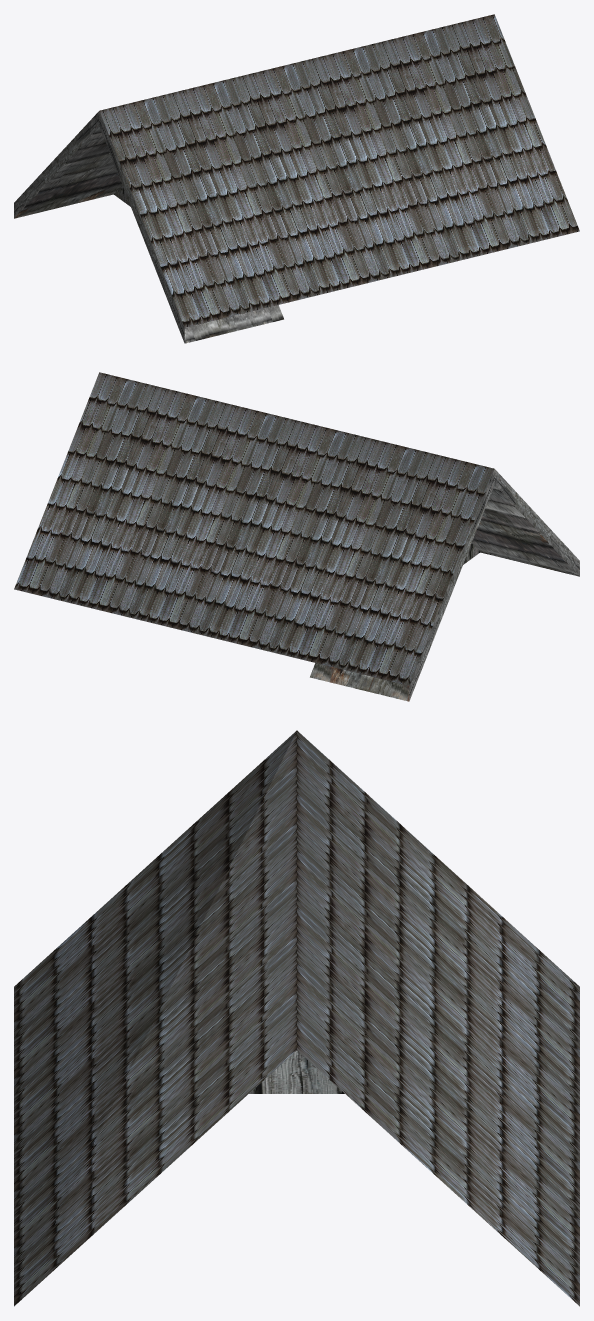
The model's file is House 2 Top End Roof.FBX.
3 renders of one model, top to bottom at view 1: azimuth 30°, elevation 25°; view 2: azimuth 150°, elevation 25°; view 3: azimuth 270°, elevation 25°, orthographic. The views are drawn at different scales.
Visible parts, largest first — view 1: Object24; view 2: Object24; view 3: Object24.
Part boxes in pixels (x1,y1,x2,y2): Object24: [14, 14, 579, 343]; Object24: [14, 372, 579, 701]; Object24: [14, 730, 579, 1306].
Bounding box in the file's own units: 316 × 130 × 236.
2 materials, 2 textured.
